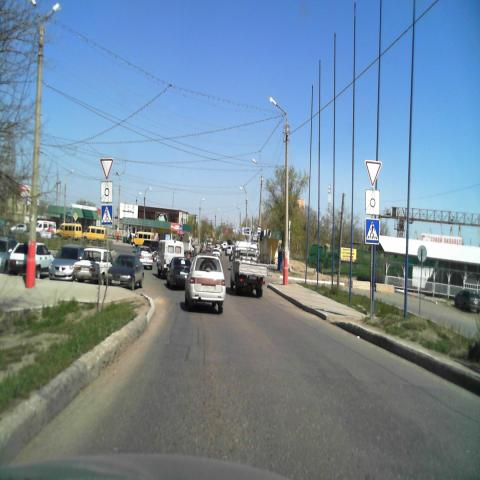8_13_1: (365, 190, 380, 214), (101, 181, 113, 202)
